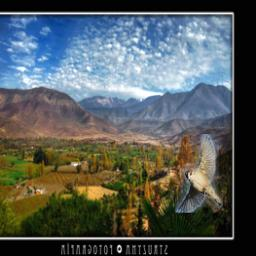Sparrow: (174, 134, 222, 213)
